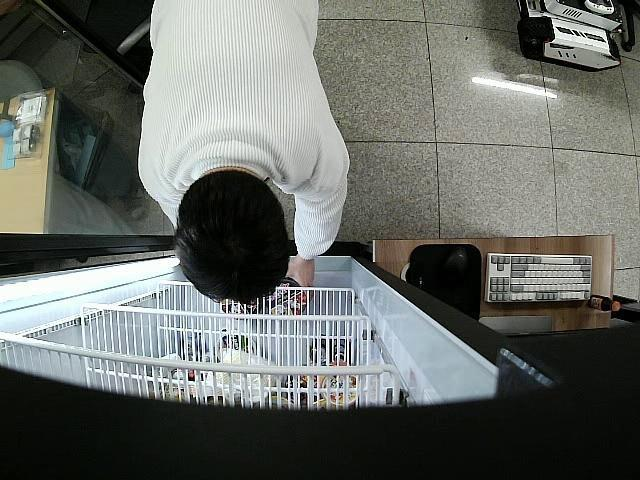07_buldak_L: (266, 278, 306, 318)
